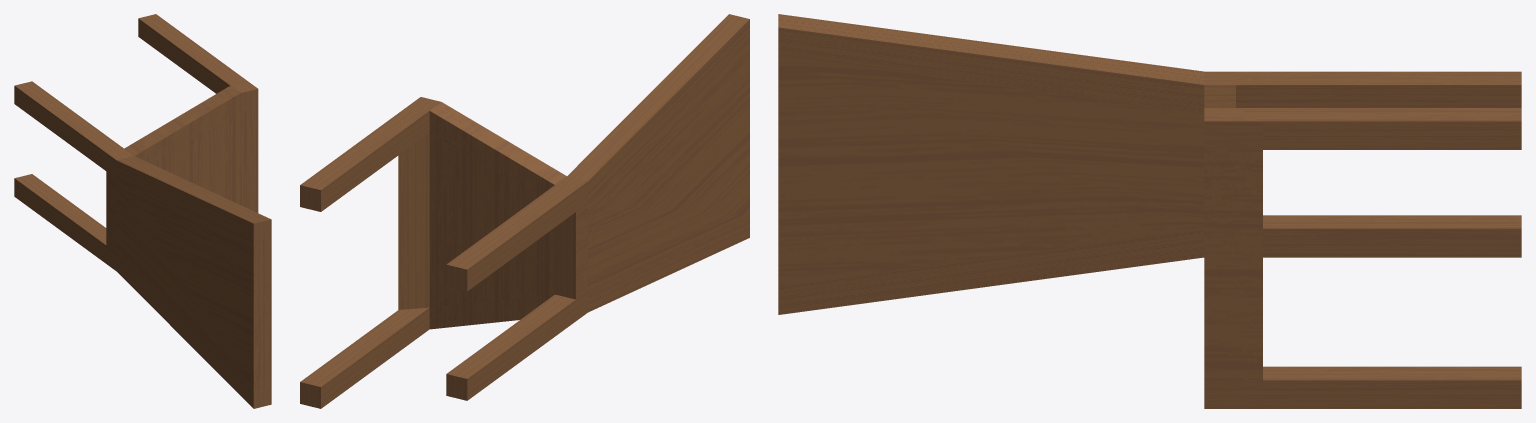
The model's file is chair.obj.
3 renders of one model, left to right at view 1: azimuth 30°, elevation 25°; view 2: azimuth 150°, elevation 25°; view 3: azimuth 270°, elevation 25°, orthographic. The views are drawn at different scales.
Visible parts, largest first — view 1: Cube; view 2: Cube; view 3: Cube.
Boxes of the visible parts, x1,y1,x2,y2 form: Cube: [14, 14, 271, 408]; Cube: [300, 14, 749, 408]; Cube: [778, 14, 1521, 408].
Size of the model in its own units: 0.4 by 0.5 by 1.17.
1 material, 1 textured.
